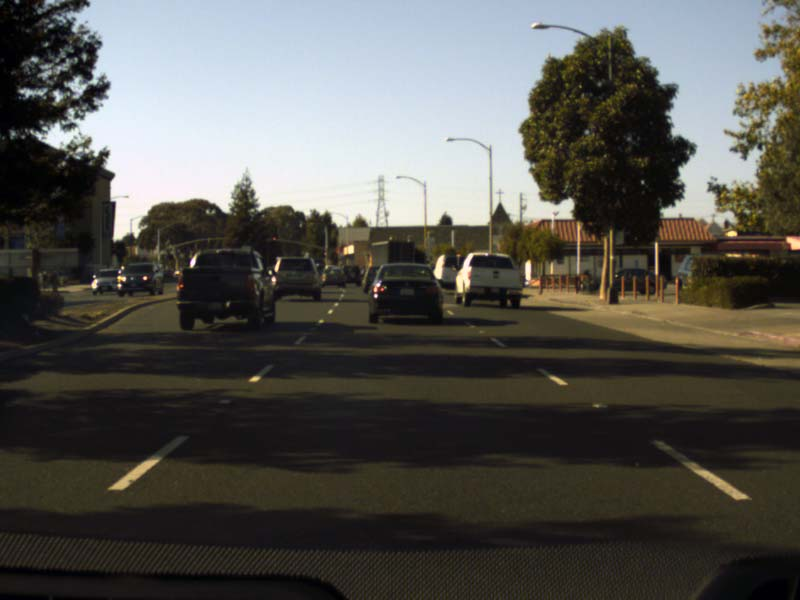Red: (271, 236, 276, 241), (323, 252, 327, 255)
